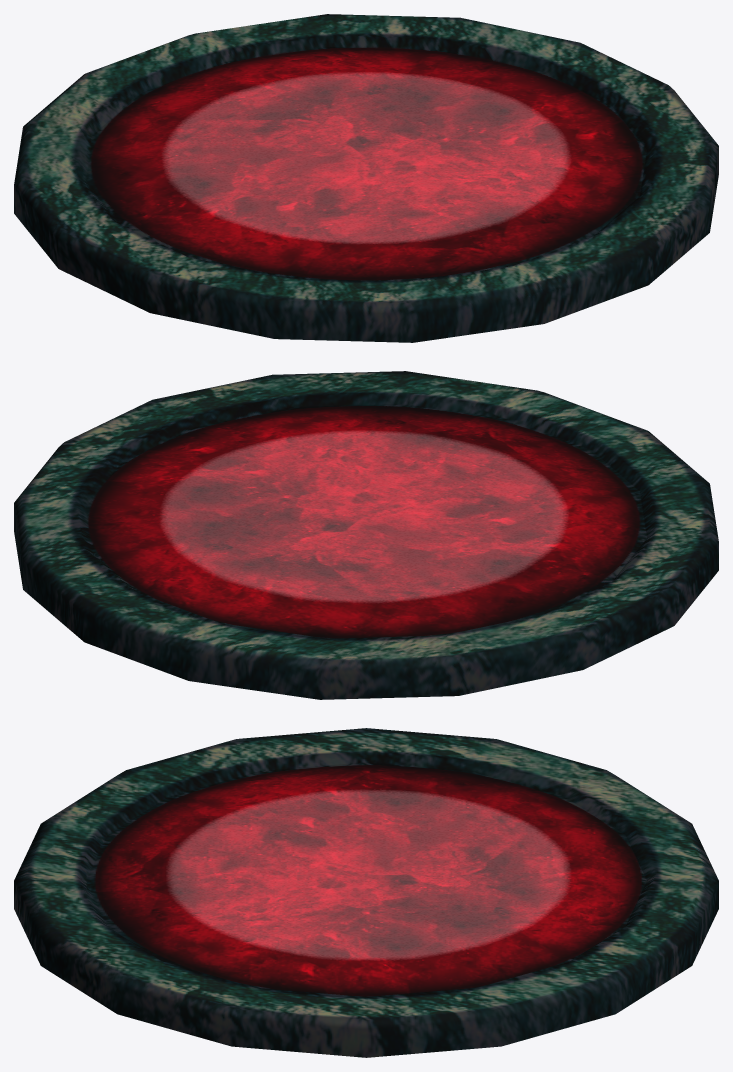
Rendered from object_mass_big_03red.fbx.
The picture shows the model from 3 angles, top to bottom: view 1: azimuth 30°, elevation 25°; view 2: azimuth 150°, elevation 25°; view 3: azimuth 270°, elevation 25°; orthographic projection.
Visible parts, largest first — view 1: pCylinder1; view 2: pCylinder1; view 3: pCylinder1.
Part boxes in pixels (x1,y1,x2,y2): pCylinder1: [14, 14, 718, 342]; pCylinder1: [14, 371, 718, 699]; pCylinder1: [14, 728, 718, 1057].
Bounding box in the file's own units: 2 × 0.108 × 2.
